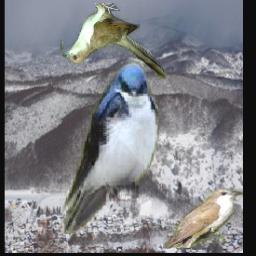Cuckoo: (61, 3, 167, 80), (163, 189, 243, 249)
Swallow: (60, 58, 160, 234)
